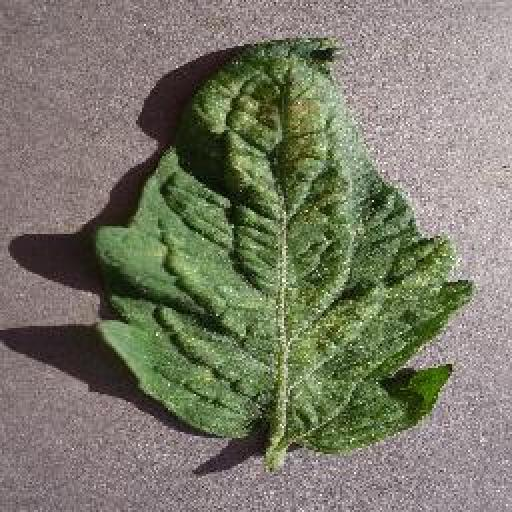disease_tomato: (96, 36, 475, 453)
